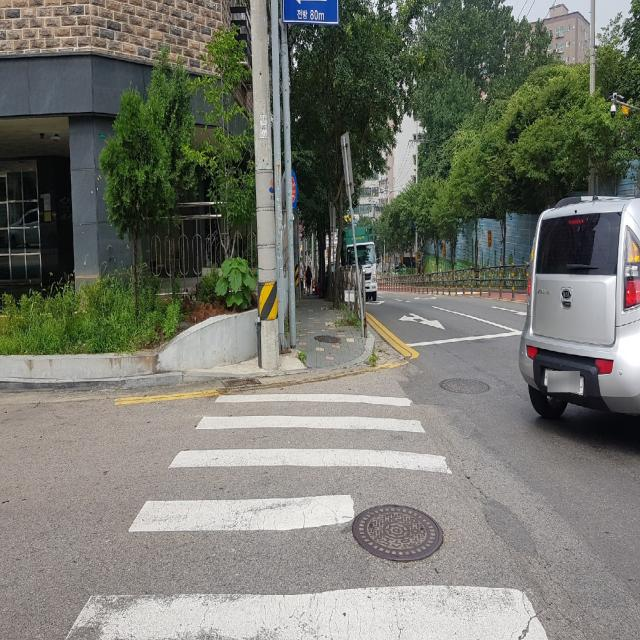횡단보도: (62, 389, 552, 640)
